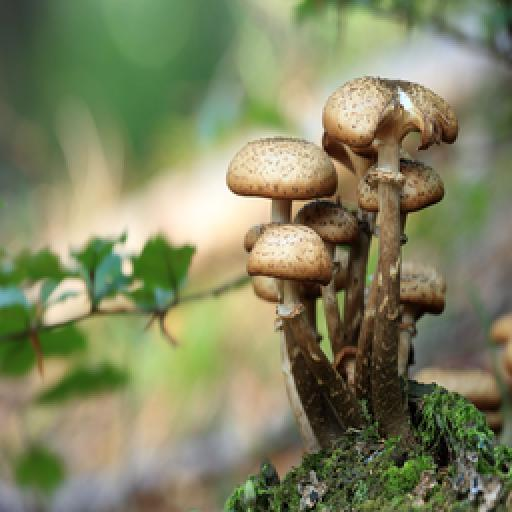mushrooms: (224, 74, 460, 432)
